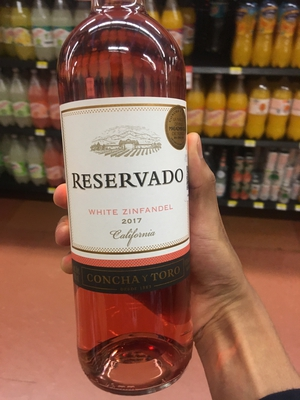reservado white zinfandel: (59, 5, 213, 379)
